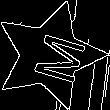M_W: (17, 26, 82, 85)
